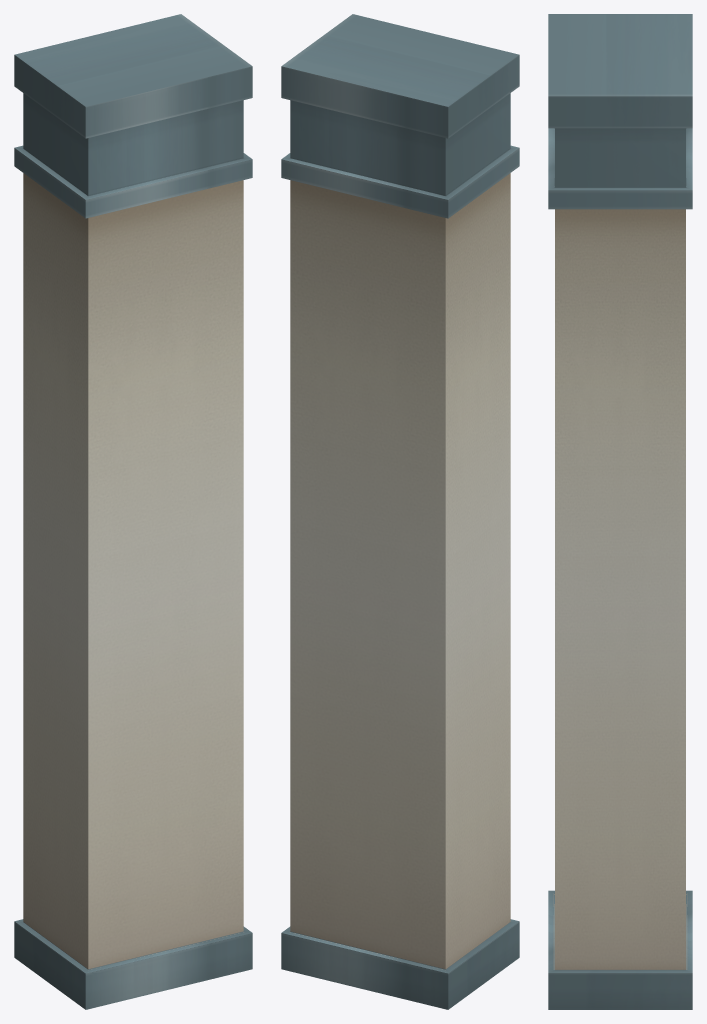
Rendered from KR_Pillar_01_01.fbx.
3 renders of one model, left to right at view 1: azimuth 30°, elevation 25°; view 2: azimuth 150°, elevation 25°; view 3: azimuth 270°, elevation 25°, orthographic.
Parts seen in each view (by area): view 1: kr_pillar_01_01; view 2: kr_pillar_01_01; view 3: kr_pillar_01_01.
Part boxes in pixels (x1=…): kr_pillar_01_01: x1=14, y1=14, x2=252, y2=1009; kr_pillar_01_01: x1=281, y1=14, x2=519, y2=1009; kr_pillar_01_01: x1=548, y1=14, x2=692, y2=1009.
Size of the model in its own units: 58 by 300 by 43.
